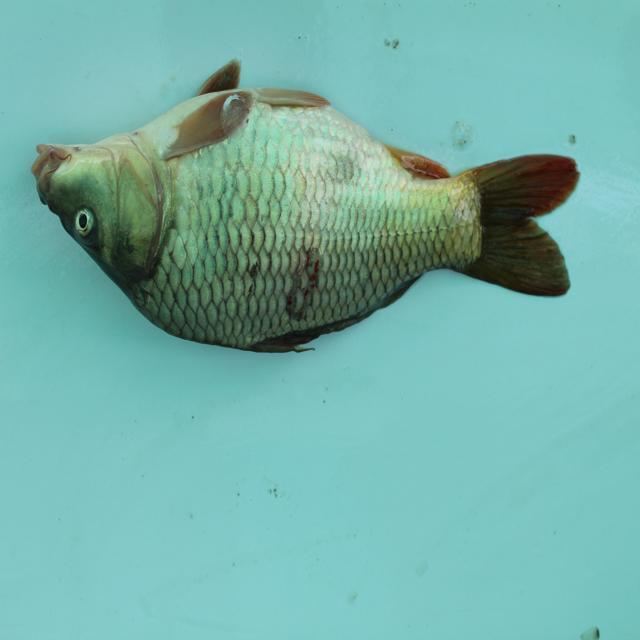CommonCarp: (18, 58, 580, 364)
